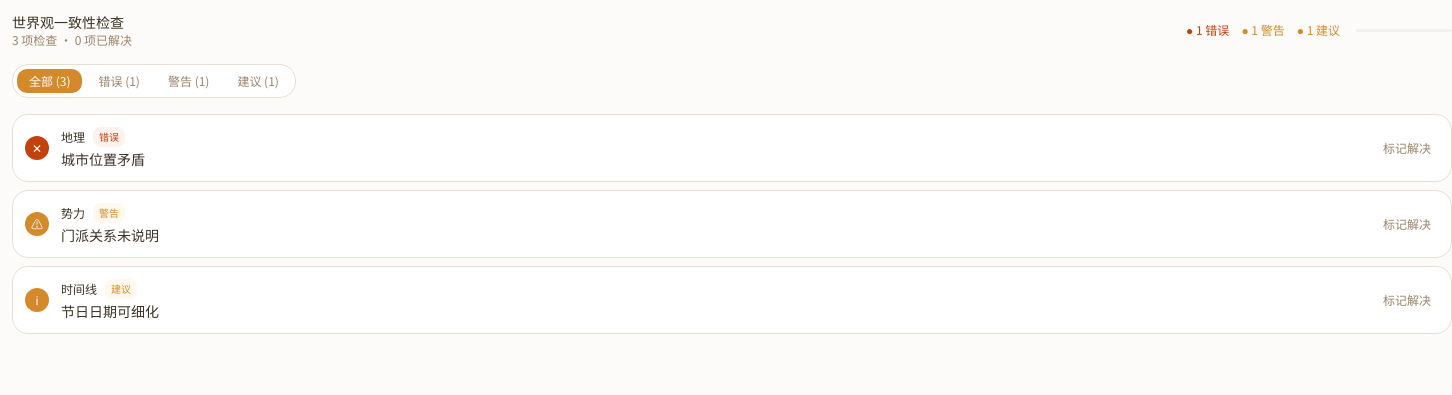
WorldConsistency › expands and collapses item details
Expected: the text "💡 统一地图坐标" is not shown
Click the text "城市位置矛盾" at (103, 159), box 61,149 -> 145,169
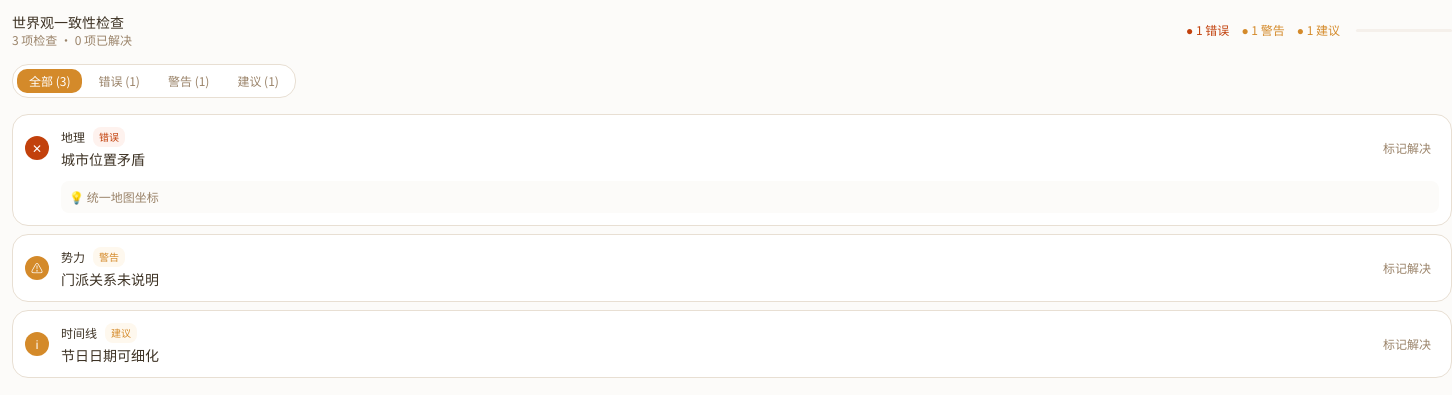
Result: the text "💡 统一地图坐标" is shown at 61,181 -> 1439,213
Click the text "城市位置矛盾" at (103, 159), box 61,149 -> 145,169
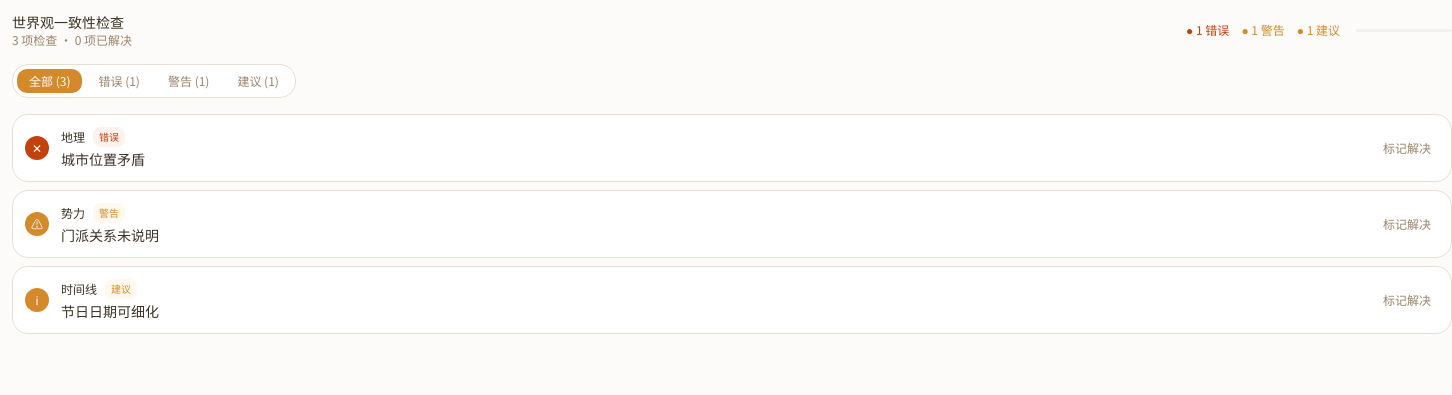
Result: the text "💡 统一地图坐标" is gone
